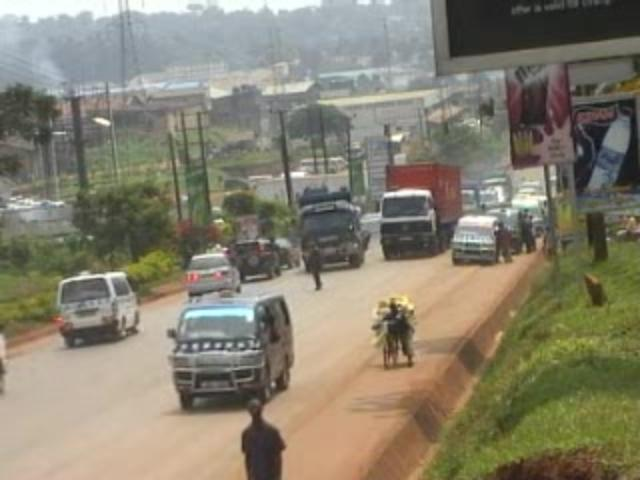car: (182, 249, 243, 297), (229, 238, 282, 281)
truck: (379, 160, 447, 262), (299, 195, 366, 269)
van: (164, 292, 293, 407), (53, 271, 143, 336), (451, 213, 499, 269)
